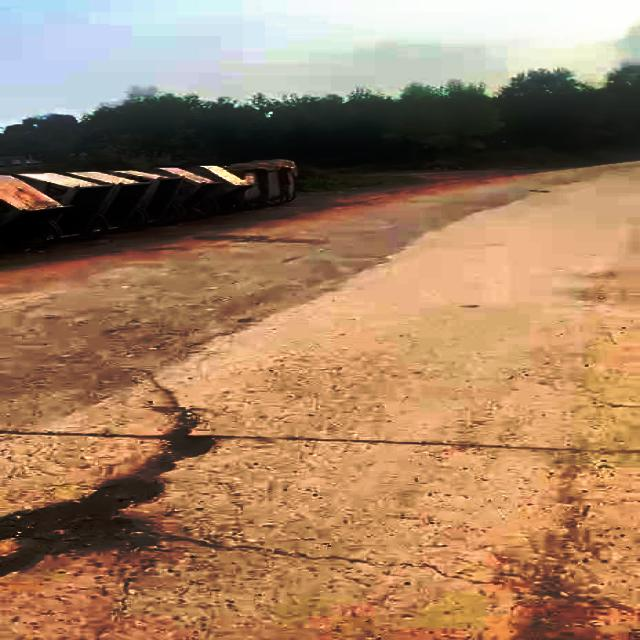pothole: (0, 428, 207, 582)
